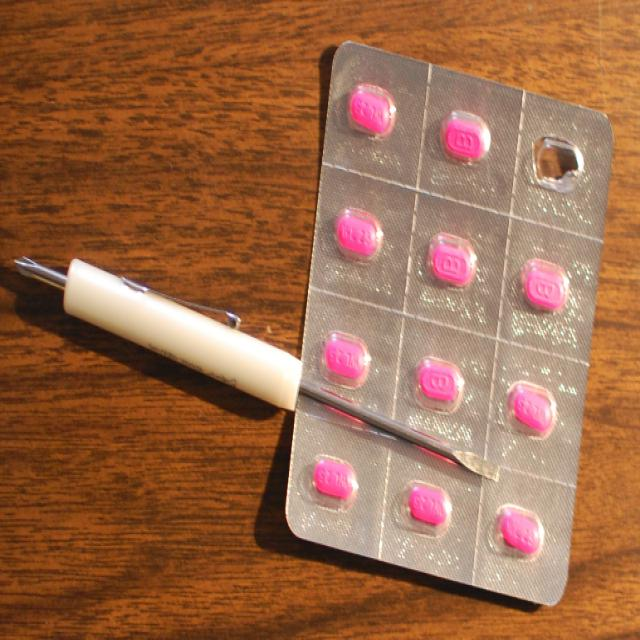Empty: (528, 122, 586, 204)
Pill: (318, 310, 374, 392), (408, 343, 466, 419), (516, 244, 574, 320), (309, 435, 360, 519), (346, 68, 398, 148), (508, 368, 556, 450), (496, 492, 547, 569), (426, 221, 479, 295), (403, 465, 452, 544), (438, 98, 491, 170), (334, 196, 384, 272)
